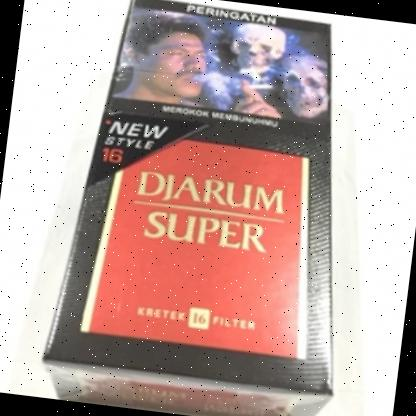bungkus rokok: (33, 0, 384, 416)
